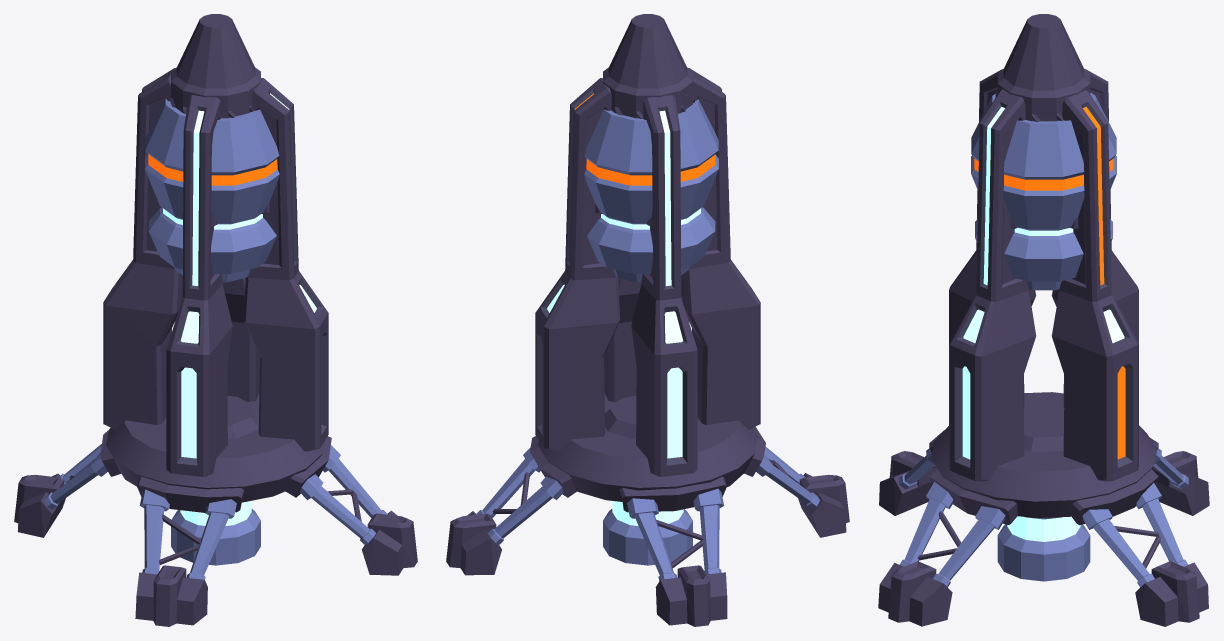
The model's file is Portal_generator.fbx.
3 views of the same model, side by side, from view 1: azimuth 30°, elevation 25°; view 2: azimuth 150°, elevation 25°; view 3: azimuth 270°, elevation 25° (orthographic). The views are drawn at different scales.
Parts seen in each view (by area): view 1: Portal_generator; view 2: Portal_generator; view 3: Portal_generator.
Part boxes in pixels (<box>): Portal_generator: <box>14,14,417,626</box>; Portal_generator: <box>446,14,849,626</box>; Portal_generator: <box>878,14,1209,626</box>.
Size of the model in its own units: 1849 by 3330 by 1849.
